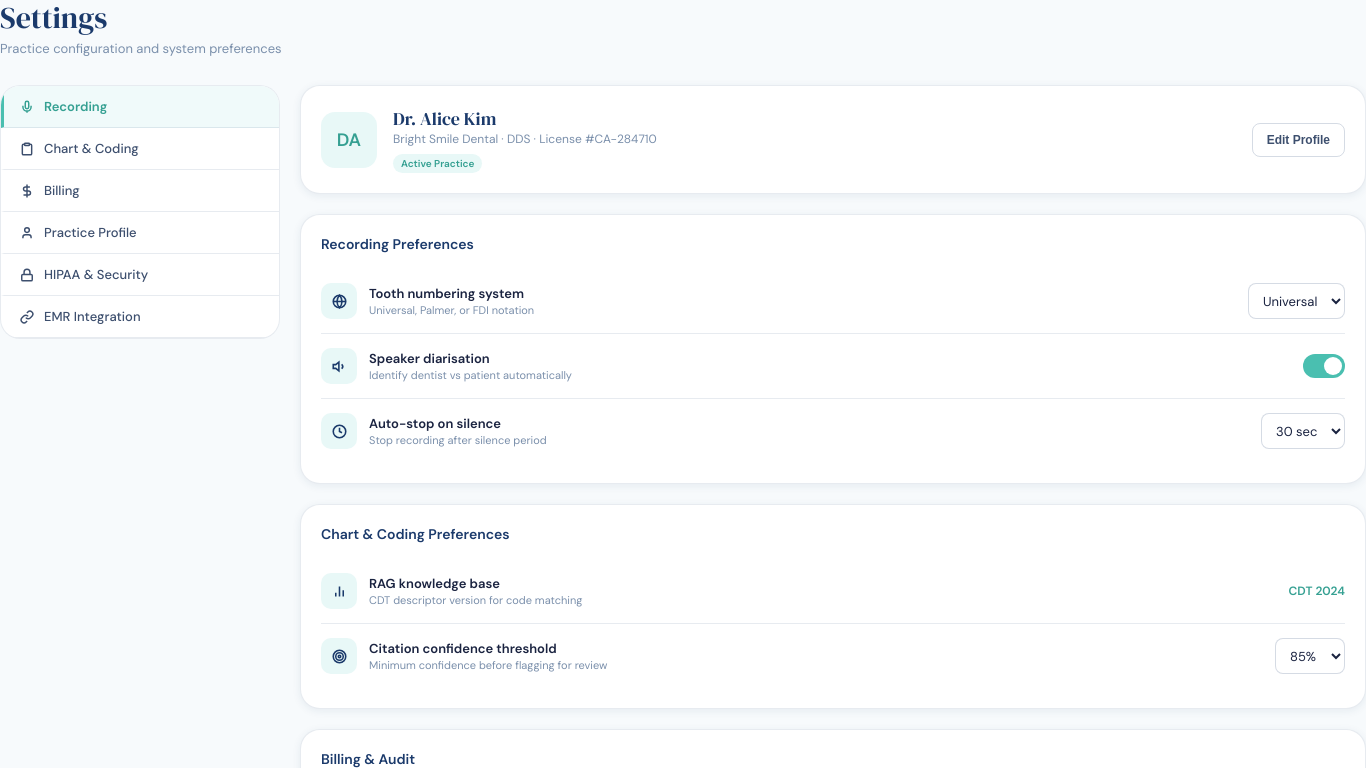
Test case: 🔒 DentalScribeAI — Aggressive Frontend Unit Test Suite › 6. Settings Preferences rendering & Actions › should open inline profile editor and successfully save changes to state
This screenshot has width=1366, height=768.
Expected: the text "Edit Practice Profile" is not shown
// Click Edit Profile
Step 1. Click the button "Edit Profile" → (1298, 140), box [1252,122,1345,156]
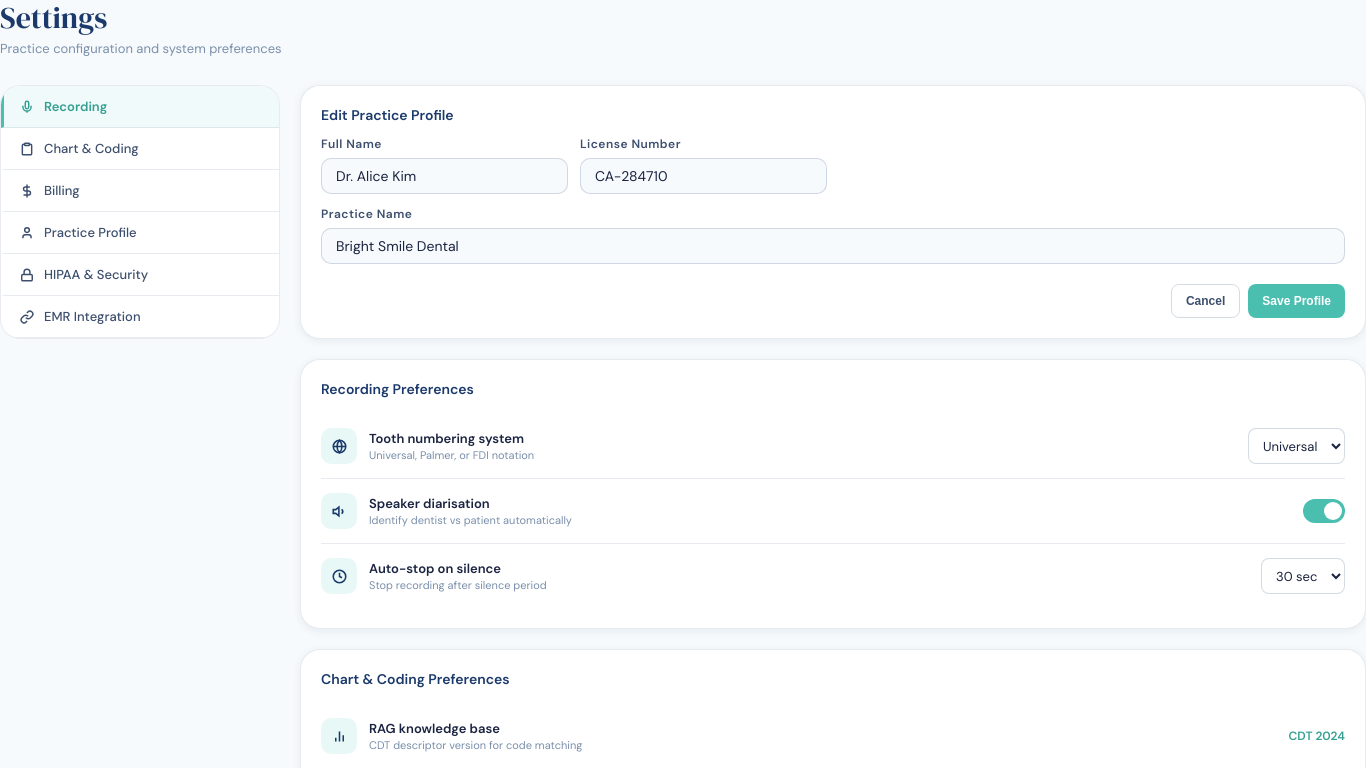
Now the text "Edit Practice Profile" is shown, box [321,106,454,124]
// Modify inputs
Step 2. Replace the text in the field below "Full Name" with "Dr. Hassan Qureshi" → (444, 176), box [321,158,568,194]
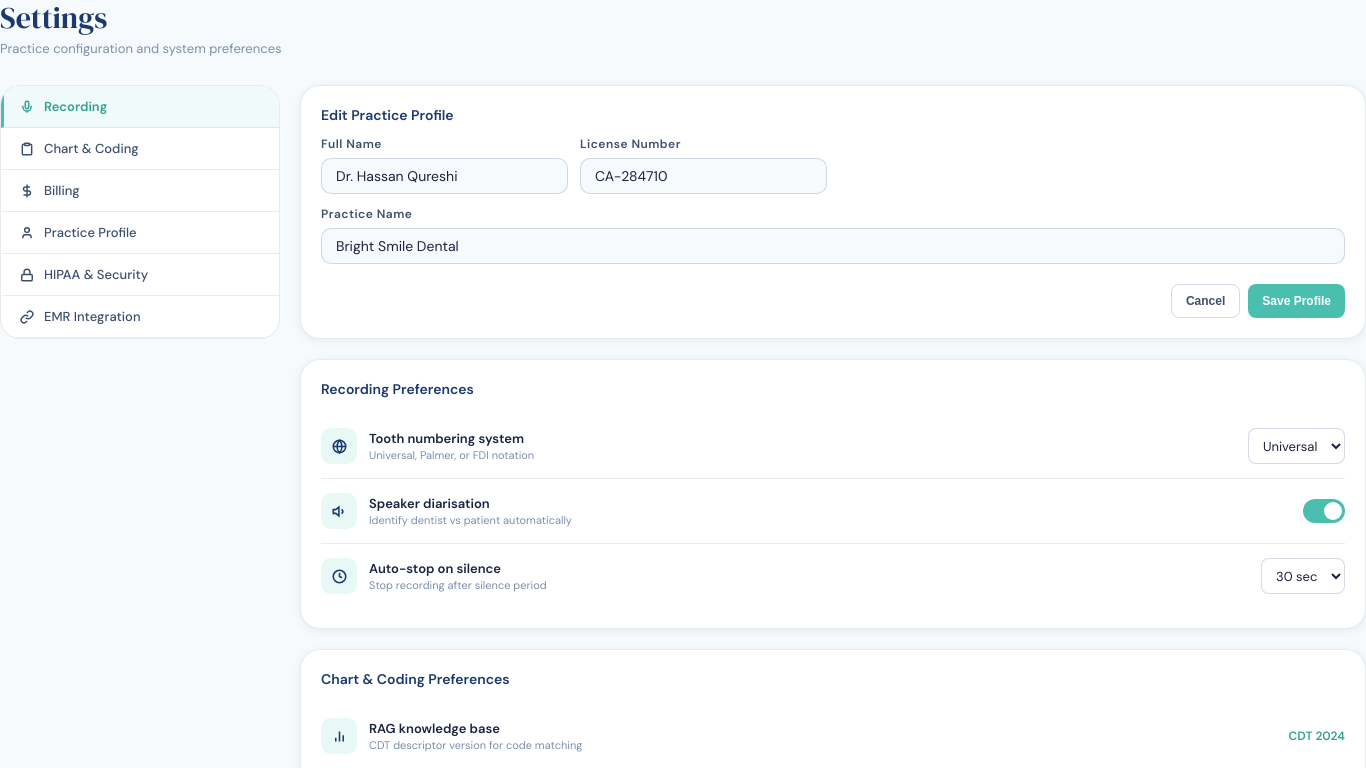
Step 3. Click the button "Save Profile" → (1297, 301), box [1248,284,1345,318]
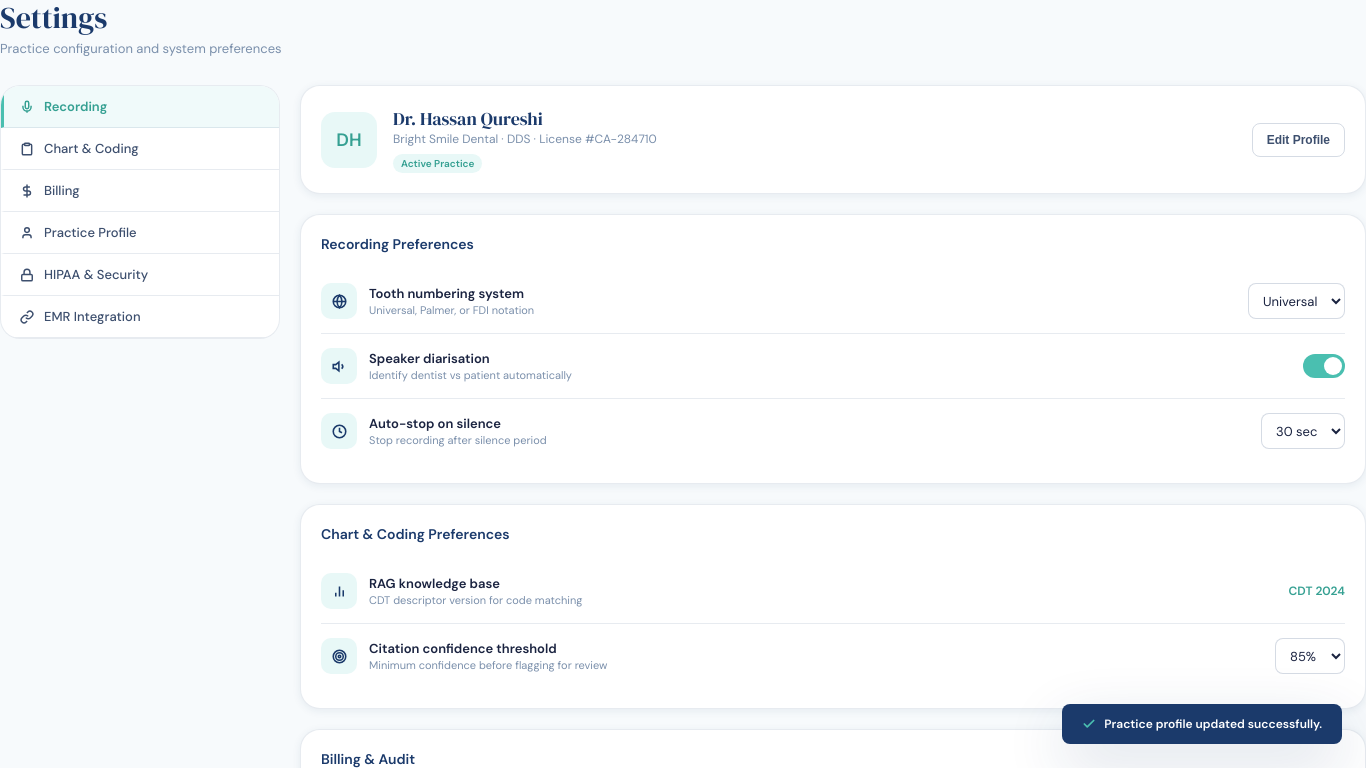
Now the text "Edit Practice Profile" is gone
Now the text "Dr. Hassan Qureshi" is shown, box [393,106,543,131]
